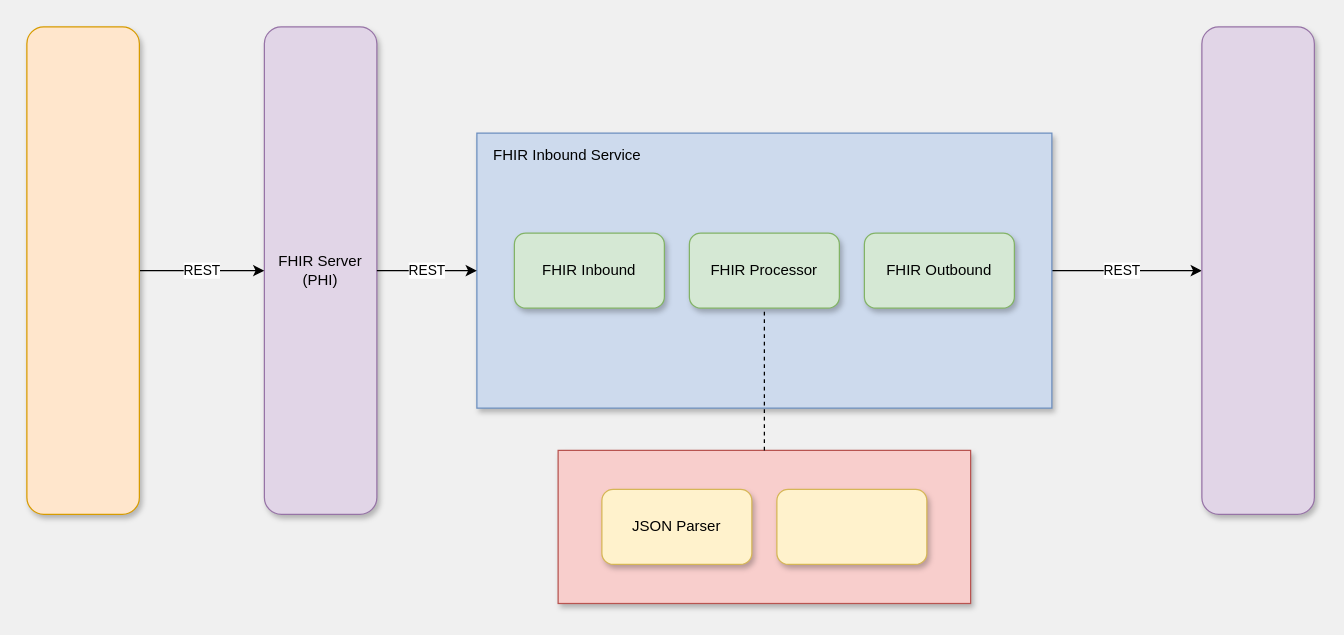
This 1344x635 diagram has some shape labels left out. The centre of each missing label's shape, as x and y in pixels:
FHIR Server (Facility): (x=84, y=272)
Profile: (x=852, y=528)
Rest Rest API (PHI): (x=1259, y=272)
